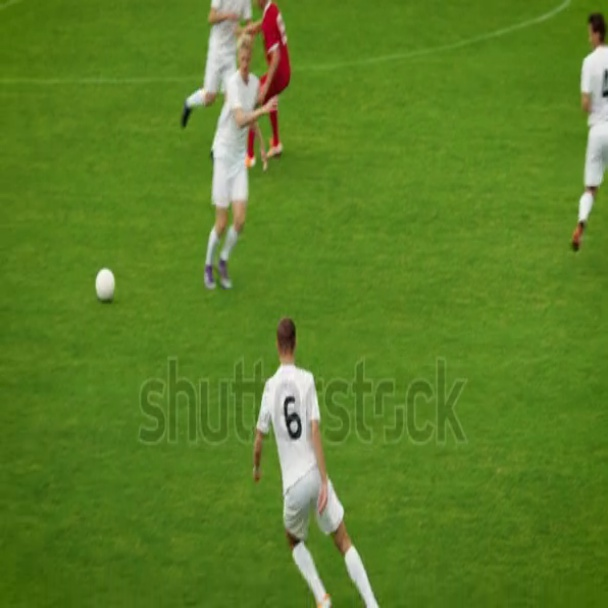ball: (97, 268, 115, 298)
